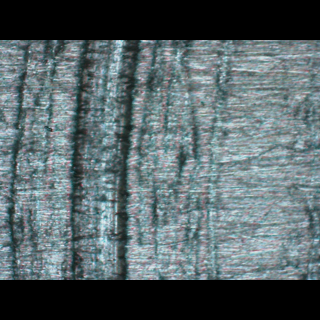d: (66, 40, 140, 277)
